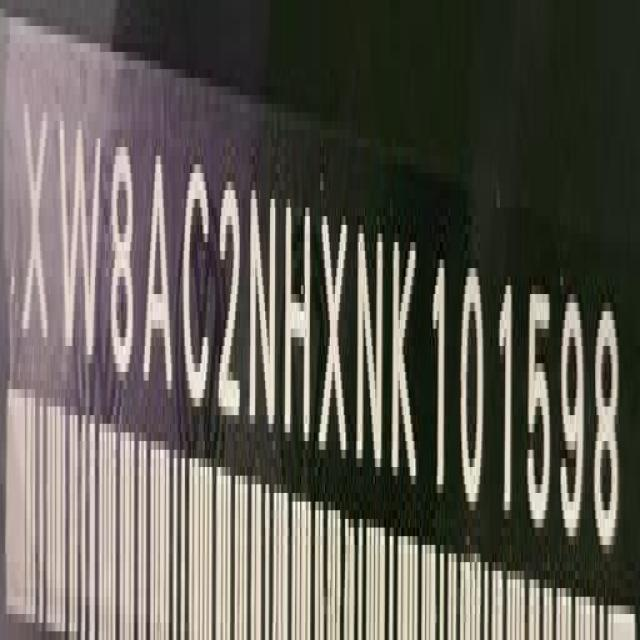0: (459, 257, 485, 513)
1: (500, 268, 518, 530), (431, 240, 447, 508)
2: (217, 174, 242, 432)
5: (528, 274, 554, 536)
8: (596, 300, 622, 558), (110, 136, 136, 388)
9: (560, 291, 586, 548)
A: (142, 147, 174, 405)
C: (184, 158, 214, 420)
H: (284, 185, 316, 468)
K: (391, 223, 416, 496)
N: (356, 205, 386, 483), (247, 178, 275, 445)
W: (57, 105, 100, 373)
X: (318, 191, 350, 470), (22, 78, 50, 361)
